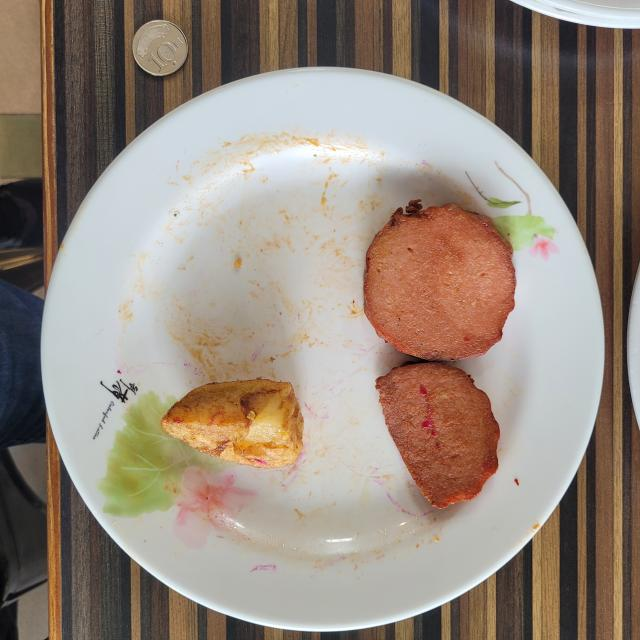Spam: (364, 200, 516, 509)
coin: (132, 20, 188, 76)
fried potato: (161, 379, 304, 468)
